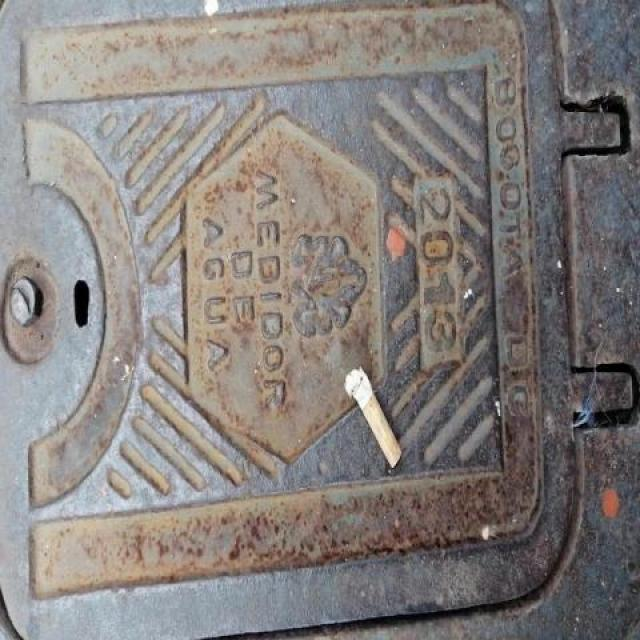non-organic waste: (339, 362, 406, 475)
